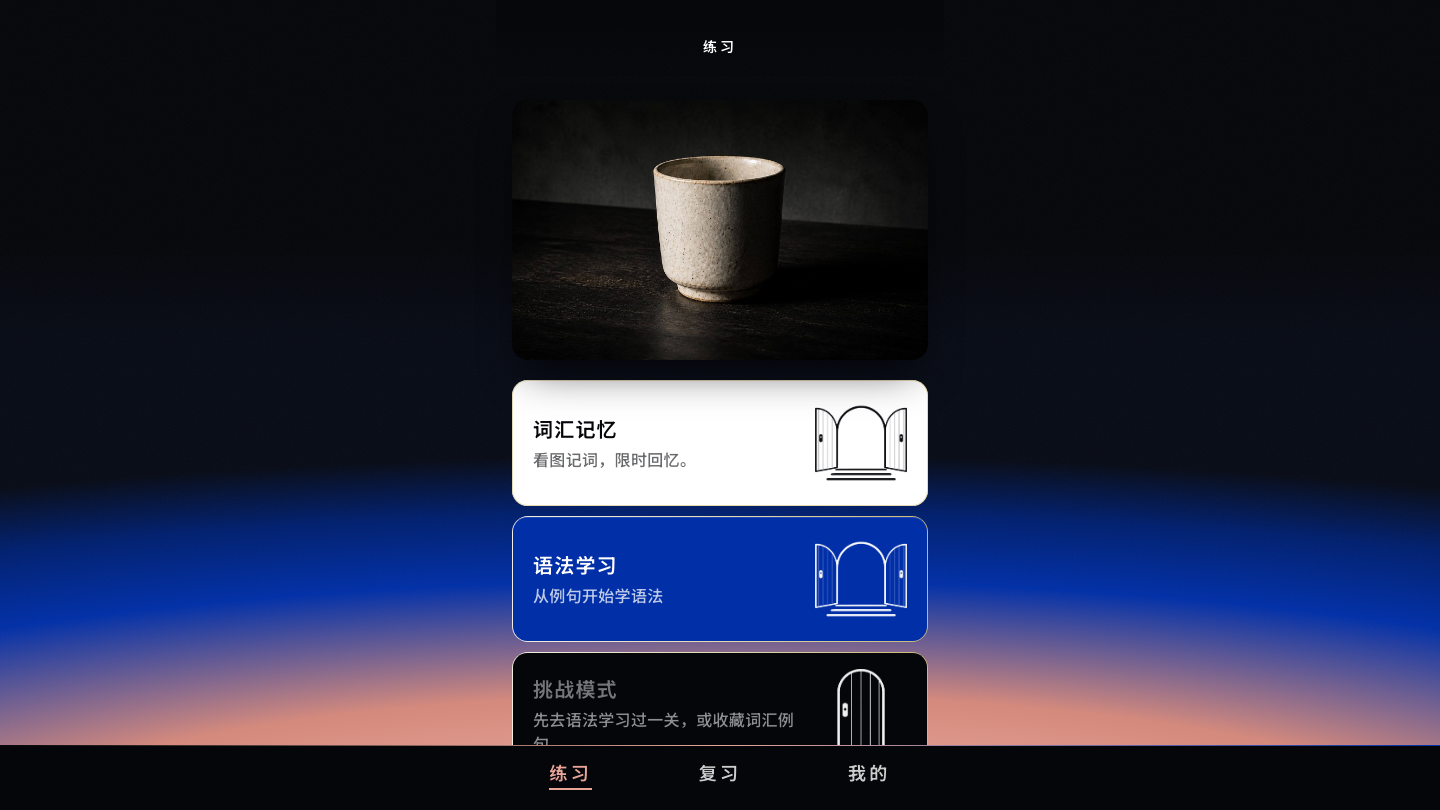
practice home › keeps 挑战模式 disabled until a level is passed or words are collected
This screenshot has width=1440, height=810.
Click the button with test id "tile-grammar-play" at (720, 715), box x1=512 y1=652 x2=928 y2=778
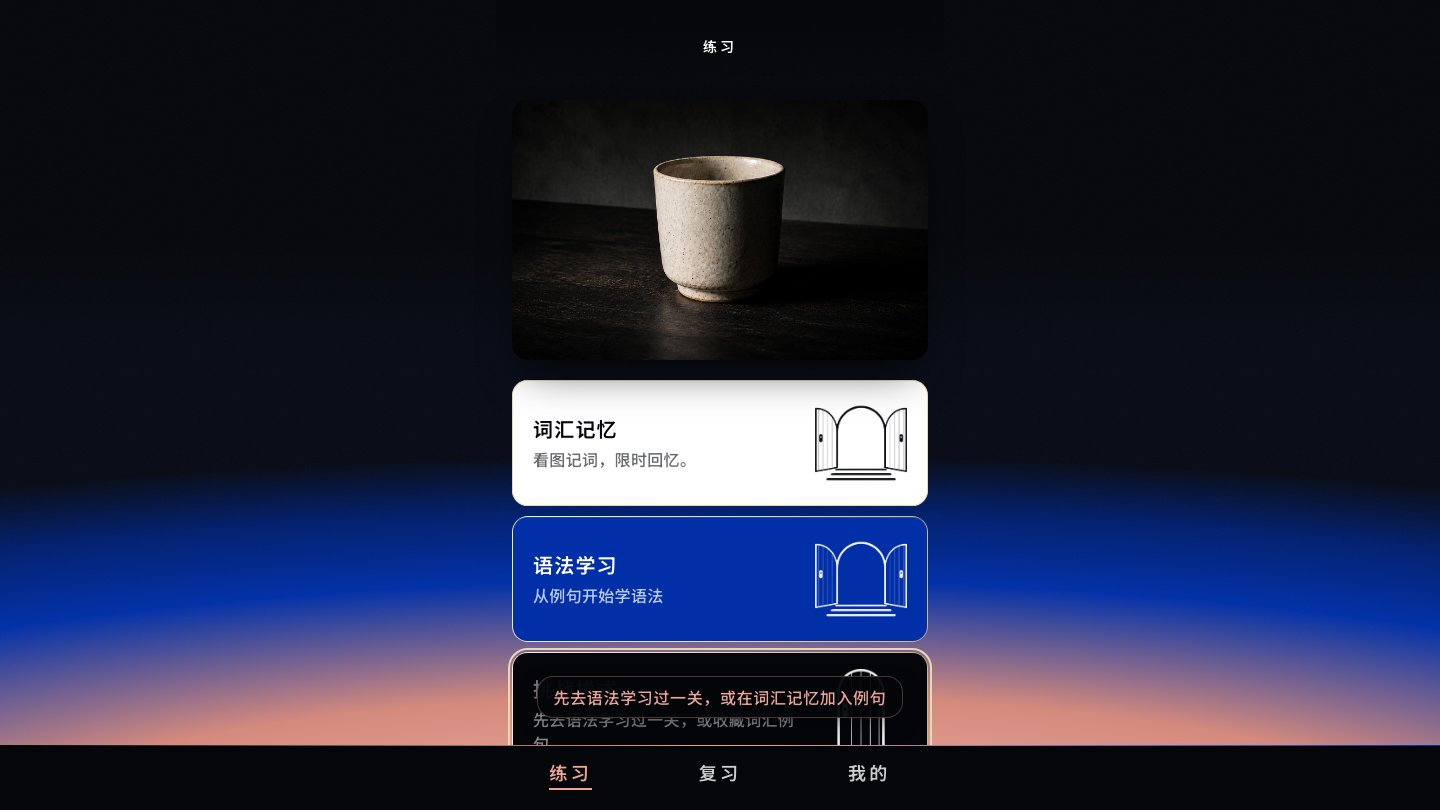
Check: the heading "练习" is shown, box x1=703 y1=36 x2=737 y2=56
Check: the message reads "先去语法学习过一关，或在词汇记忆加入例句", box x1=554 y1=685 x2=886 y2=709
